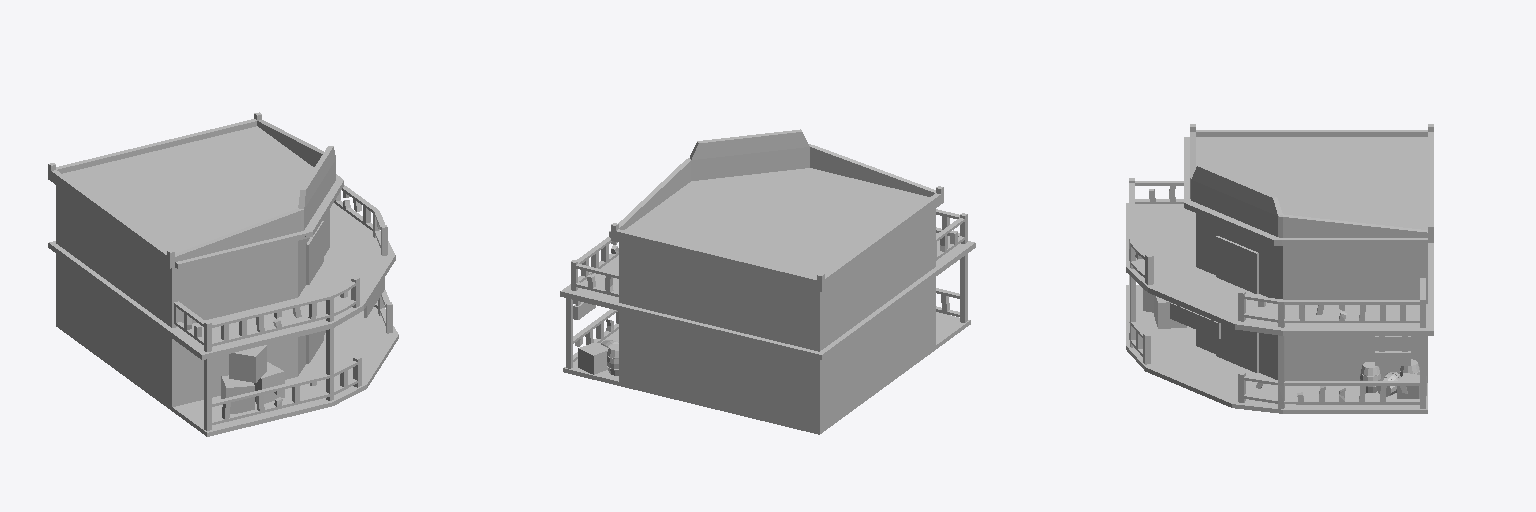
The model's file is saloon.obj.
The picture shows the model from 3 angles: view 1: azimuth 30°, elevation 25°; view 2: azimuth 150°, elevation 25°; view 3: azimuth 270°, elevation 25°; orthographic projection.
Parts seen in each view (by area): view 1: building, t_railing_1, b_railing_1, t_railing_2, crate_3, crate_1, top door, crate_2; view 2: building, t_railing_2, b_railing_2, t_railing_1, b_railing_1, crate_4; view 3: building, b_railing_2, t_railing_2, top door, t_railing_1, front door, b_railing_1, sign_panel, crate_2, sign_2.
Boxes of the visible parts, box(x1,y1,x2,y2) form: building: box(48, 112, 398, 436); t_railing_1: box(174, 276, 359, 351); b_railing_1: box(204, 328, 361, 430); t_railing_2: box(334, 185, 387, 255); crate_3: box(229, 345, 266, 382); crate_1: box(221, 375, 254, 413); top door: box(306, 221, 323, 284); crate_2: box(254, 362, 284, 403); building: box(560, 129, 975, 434); t_railing_2: box(571, 237, 618, 296); b_railing_2: box(566, 298, 618, 368); t_railing_1: box(936, 209, 967, 260); b_railing_1: box(936, 254, 967, 322); crate_4: box(578, 342, 608, 374); building: box(1126, 124, 1433, 413); b_railing_2: box(1238, 335, 1425, 408); t_railing_2: box(1238, 278, 1425, 327); top door: box(1216, 236, 1258, 293); t_railing_1: box(1129, 178, 1183, 284); front door: box(1216, 324, 1258, 372); b_railing_1: box(1129, 275, 1150, 364); sign_panel: box(1170, 303, 1220, 338); crate_2: box(1154, 295, 1186, 328); sign_2: box(1375, 351, 1410, 365).
Size of the model in its own units: 3.25 by 2.24 by 3.31.